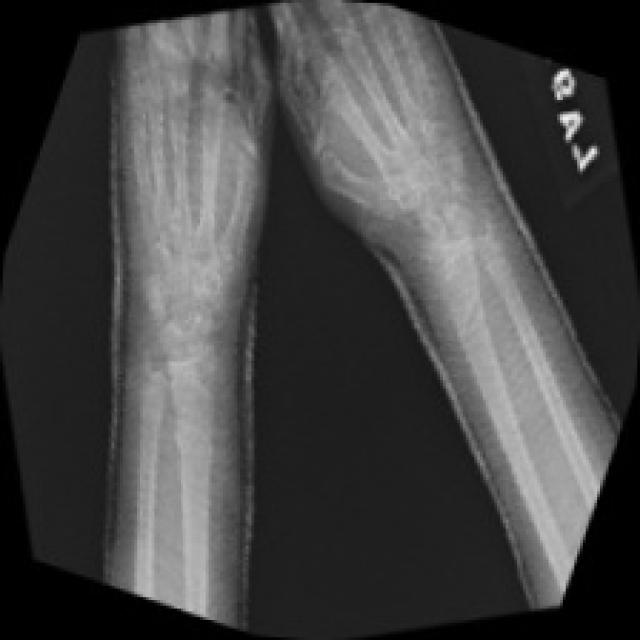fracture: (427, 283, 509, 394)
